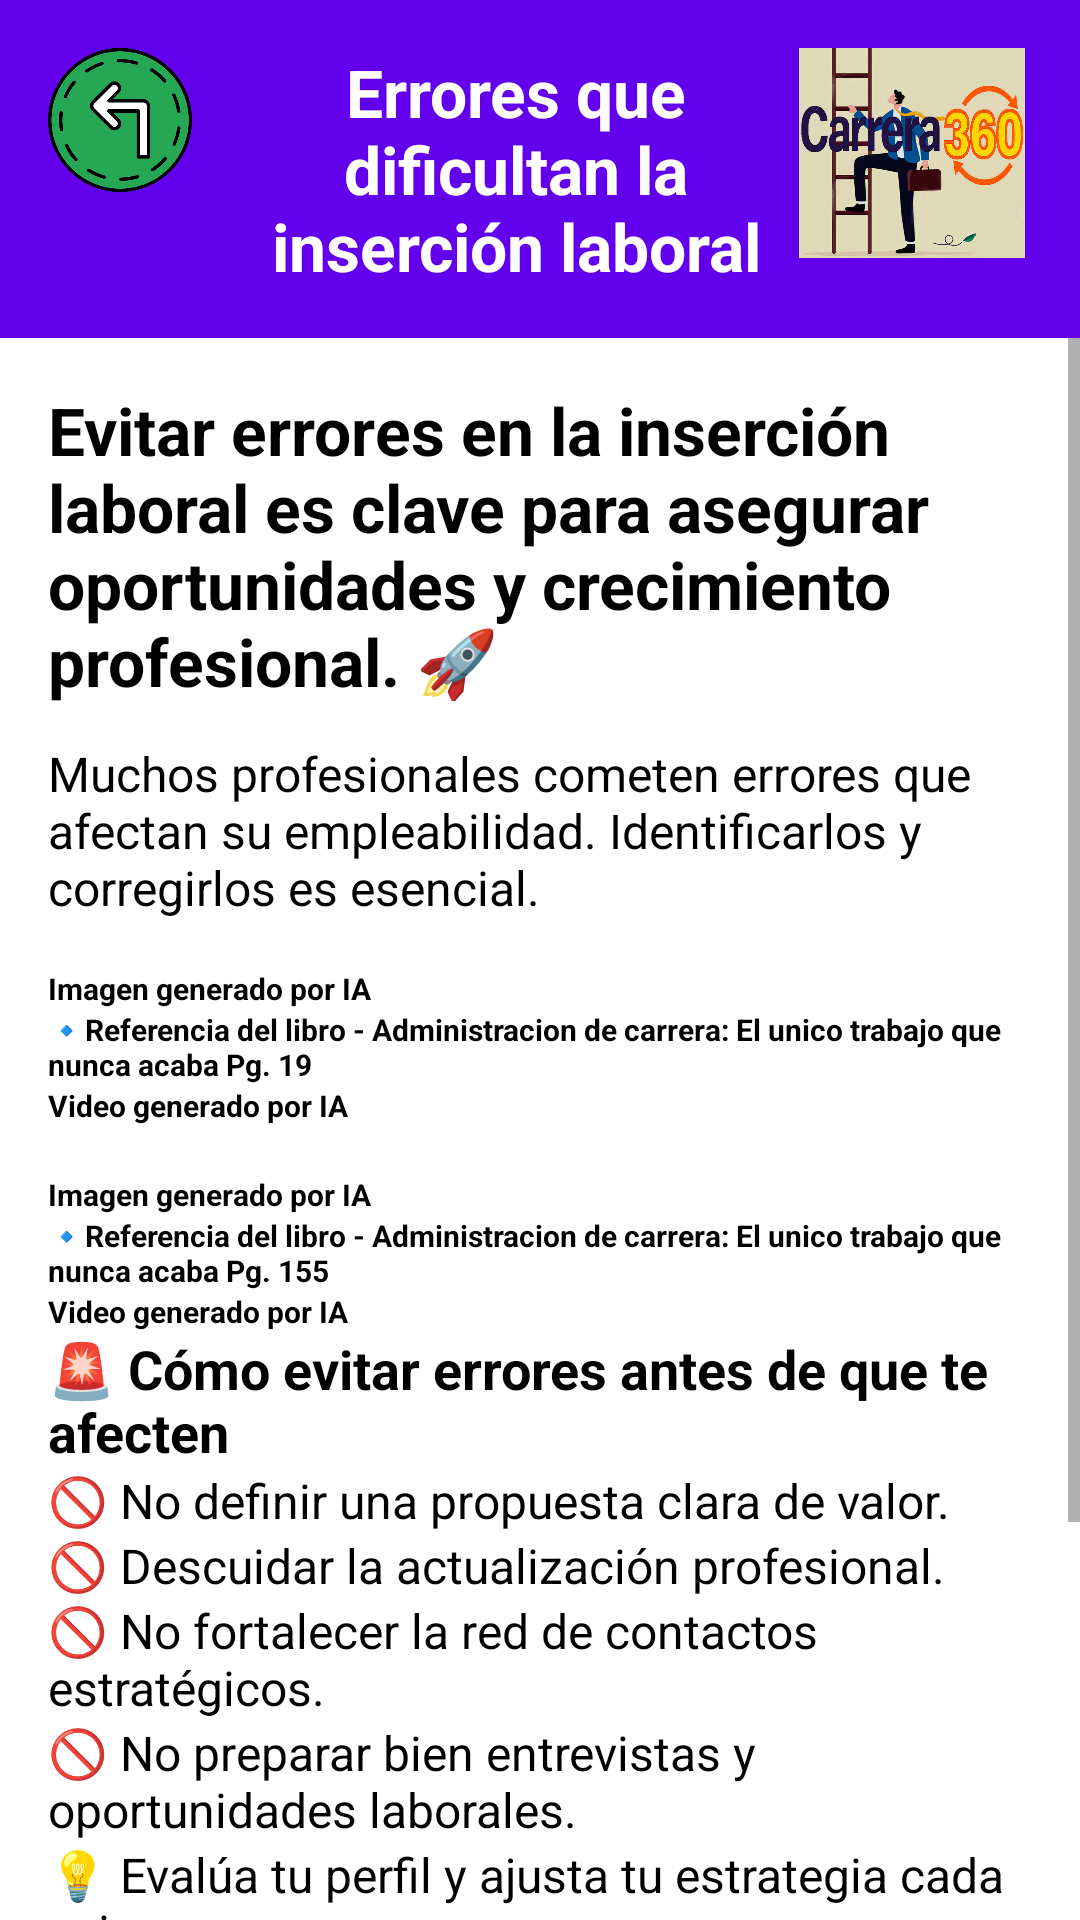

Icons on this 1080x1920 Android screen, each with the point to tap as [x,y]:
Regresar a Inicio: [120,120]
